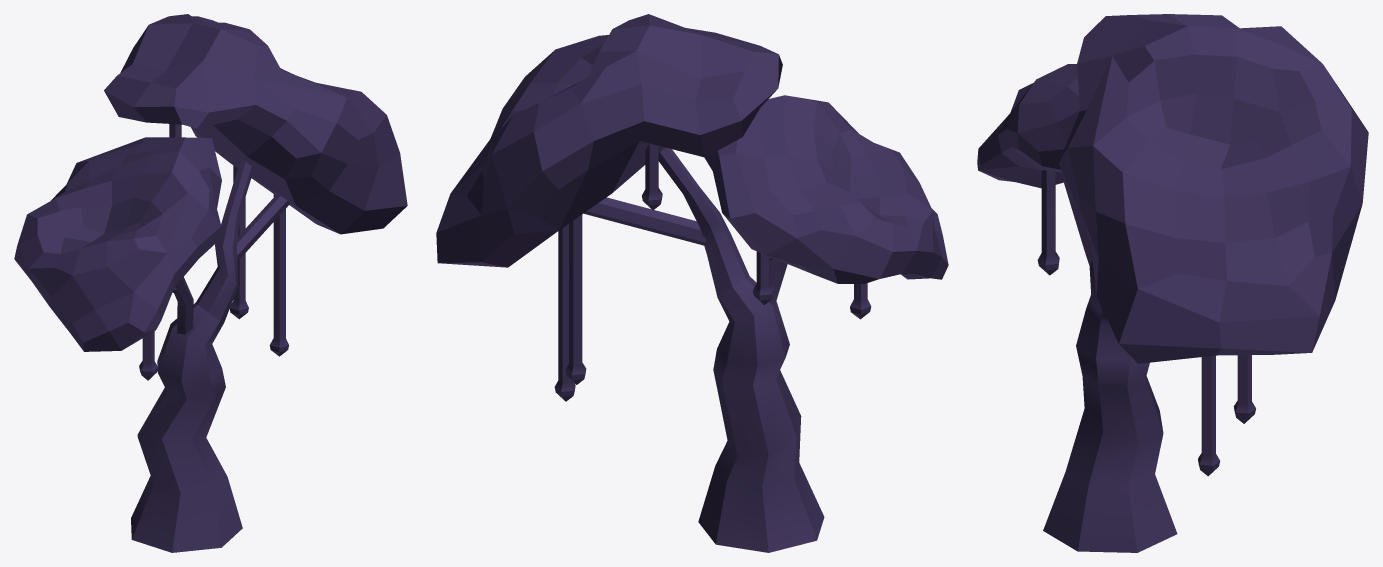
File: Tree_2.fbx
3 renders of one model, left to right at view 1: azimuth 30°, elevation 25°; view 2: azimuth 150°, elevation 25°; view 3: azimuth 270°, elevation 25°, orthographic. The views are drawn at different scales.
Visible parts, largest first — view 1: Tree_2; view 2: Tree_2; view 3: Tree_2.
Boxes of the visible parts, box(x1,y1,x2,y2) form: Tree_2: box(14, 14, 407, 552); Tree_2: box(436, 14, 948, 552); Tree_2: box(977, 14, 1368, 552).
Size of the model in its own units: 2.93 by 3.38 by 2.22.
